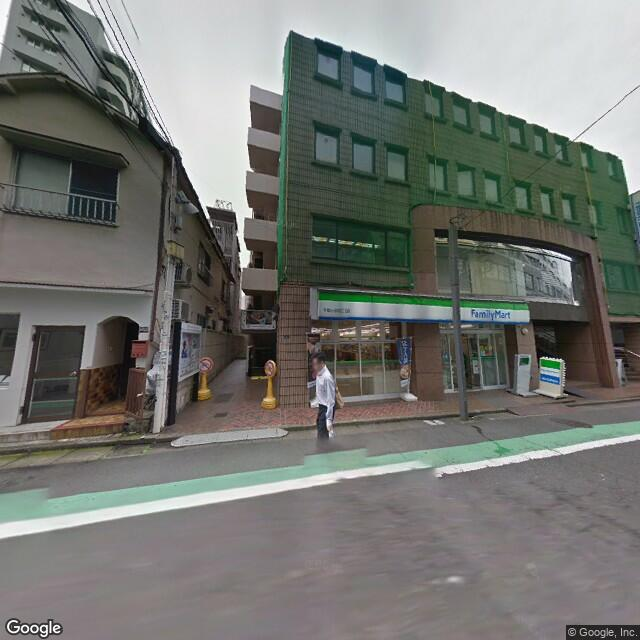family_mart: (313, 288, 533, 321), (468, 305, 513, 324), (537, 356, 562, 388)
